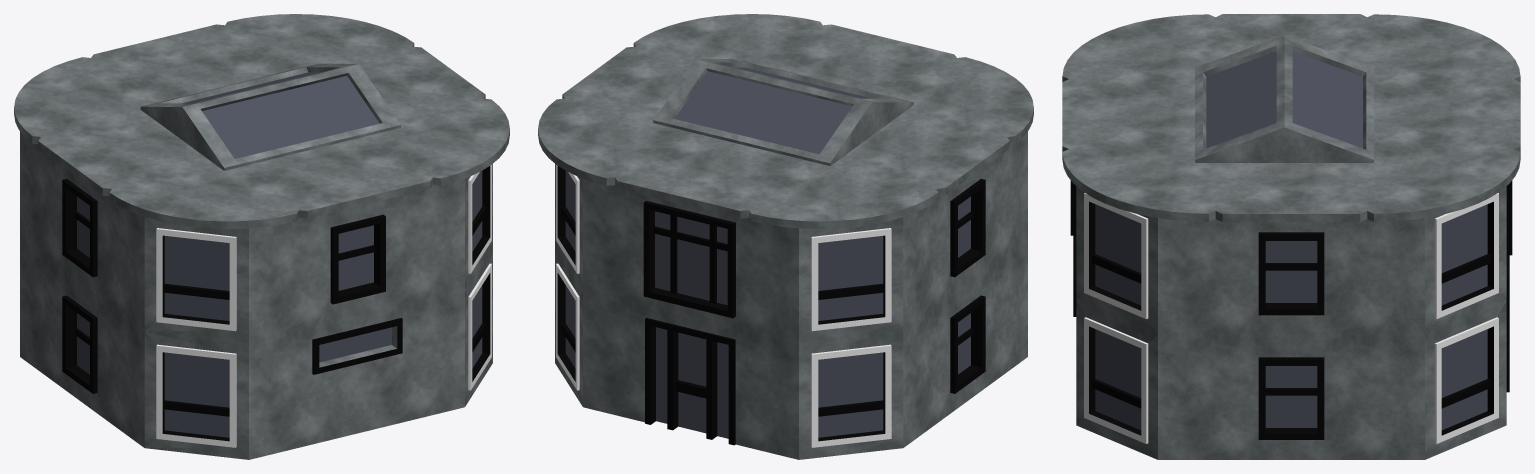
Rendered from Building 04.fbx.
3 views of the same model, side by side, from view 1: azimuth 30°, elevation 25°; view 2: azimuth 150°, elevation 25°; view 3: azimuth 270°, elevation 25° (orthographic). The views are drawn at different scales.
Parts seen in each view (by area): view 1: wall_cornerDiagonalWindow_112, wall_cornerDiagonalWindow_120, roof_windowGlass%_144, wall_windowFactory_128, wall_window_134, wall_cornerDiagonalWindow_113, floor_square_140, floor_square_142, wall_cornerDiagonalWindow_122, floor_curve%_137, floor_square_143, wall_window_133 (+7 smaller); view 2: wall_cornerDiagonalWindow_111, wall_cornerDiagonalWindow_118, roof_windowGlass%_144, wall_skyscraperDoor%_126, wall_windowLarge_129, floor_square_142, wall_cornerDiagonalWindow_110, wall_cornerDiagonalWindow_124, floor_curve%_138, floor_square_143, floor_square_140, wall_window_133 (+7 smaller); view 3: roof_windowGlass%_144, wall_cornerDiagonalWindow_110, wall_cornerDiagonalWindow_113, wall_window_132, wall_cornerDiagonalWindow_122, wall_cornerDiagonalWindow_124, wall_window_131, floor_square_142, floor_square_140, floor_curve%_136, floor_curve%_139, floor_square_141 (+5 smaller).
Boxes of the visible parts, box(x1,y1,x2,y2) form: wall_cornerDiagonalWindow_112: box(114, 309, 301, 459); wall_cornerDiagonalWindow_120: box(114, 203, 301, 343); roof_windowGlass%_144: box(140, 63, 400, 170); wall_windowFactory_128: box(301, 303, 412, 446); wall_window_134: box(301, 193, 412, 330); wall_cornerDiagonalWindow_113: box(412, 247, 492, 419); floor_square_140: box(241, 134, 432, 218); floor_square_142: box(90, 24, 287, 103); wall_cornerDiagonalWindow_122: box(412, 164, 492, 303); floor_curve%_137: box(109, 163, 298, 228); floor_square_143: box(38, 111, 214, 196); wall_window_133: box(50, 262, 114, 425); wall_cornerDiagonalWindow_111: box(746, 309, 933, 459); wall_cornerDiagonalWindow_118: box(746, 203, 933, 343); roof_windowGlass%_144: box(653, 59, 913, 165); wall_skyscraperDoor%_126: box(635, 303, 746, 446); wall_windowLarge_129: box(635, 193, 746, 330); floor_square_142: box(614, 130, 812, 218); wall_cornerDiagonalWindow_110: box(555, 247, 635, 419); wall_cornerDiagonalWindow_124: box(555, 164, 635, 303); floor_curve%_138: box(748, 162, 938, 228); floor_square_143: box(833, 111, 1009, 196); floor_square_140: box(765, 24, 956, 98); wall_window_133: box(933, 262, 997, 425); roof_windowGlass%_144: box(1195, 35, 1373, 162); wall_cornerDiagonalWindow_110: box(1360, 300, 1506, 459); wall_cornerDiagonalWindow_113: box(1076, 300, 1222, 459); wall_window_132: box(1222, 335, 1360, 459); wall_cornerDiagonalWindow_122: box(1076, 186, 1222, 334); wall_cornerDiagonalWindow_124: box(1360, 186, 1506, 334); wall_window_131: box(1222, 222, 1360, 334); floor_square_142: box(1374, 78, 1520, 151); floor_square_140: box(1062, 78, 1194, 151); floor_curve%_136: box(1365, 148, 1520, 221); floor_curve%_139: box(1062, 148, 1217, 221); floor_square_141: box(1214, 163, 1368, 222).
Size of the model in its own units: 34.38 by 23.5 by 33.25.
Materials: 4 (1 with a texture image).
